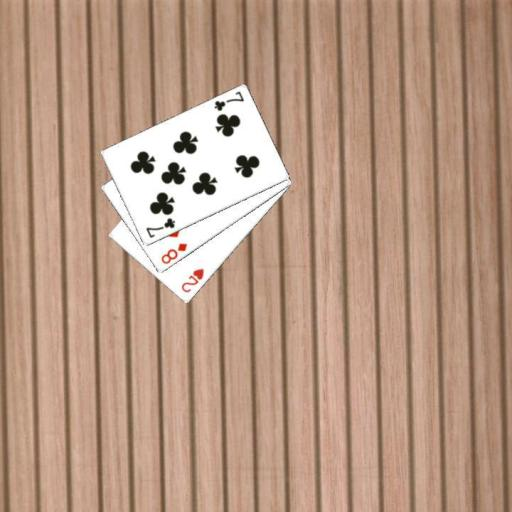2H: (178, 266, 205, 295)
7C: (212, 88, 246, 113), (143, 215, 176, 240)
8D: (158, 240, 188, 266)
